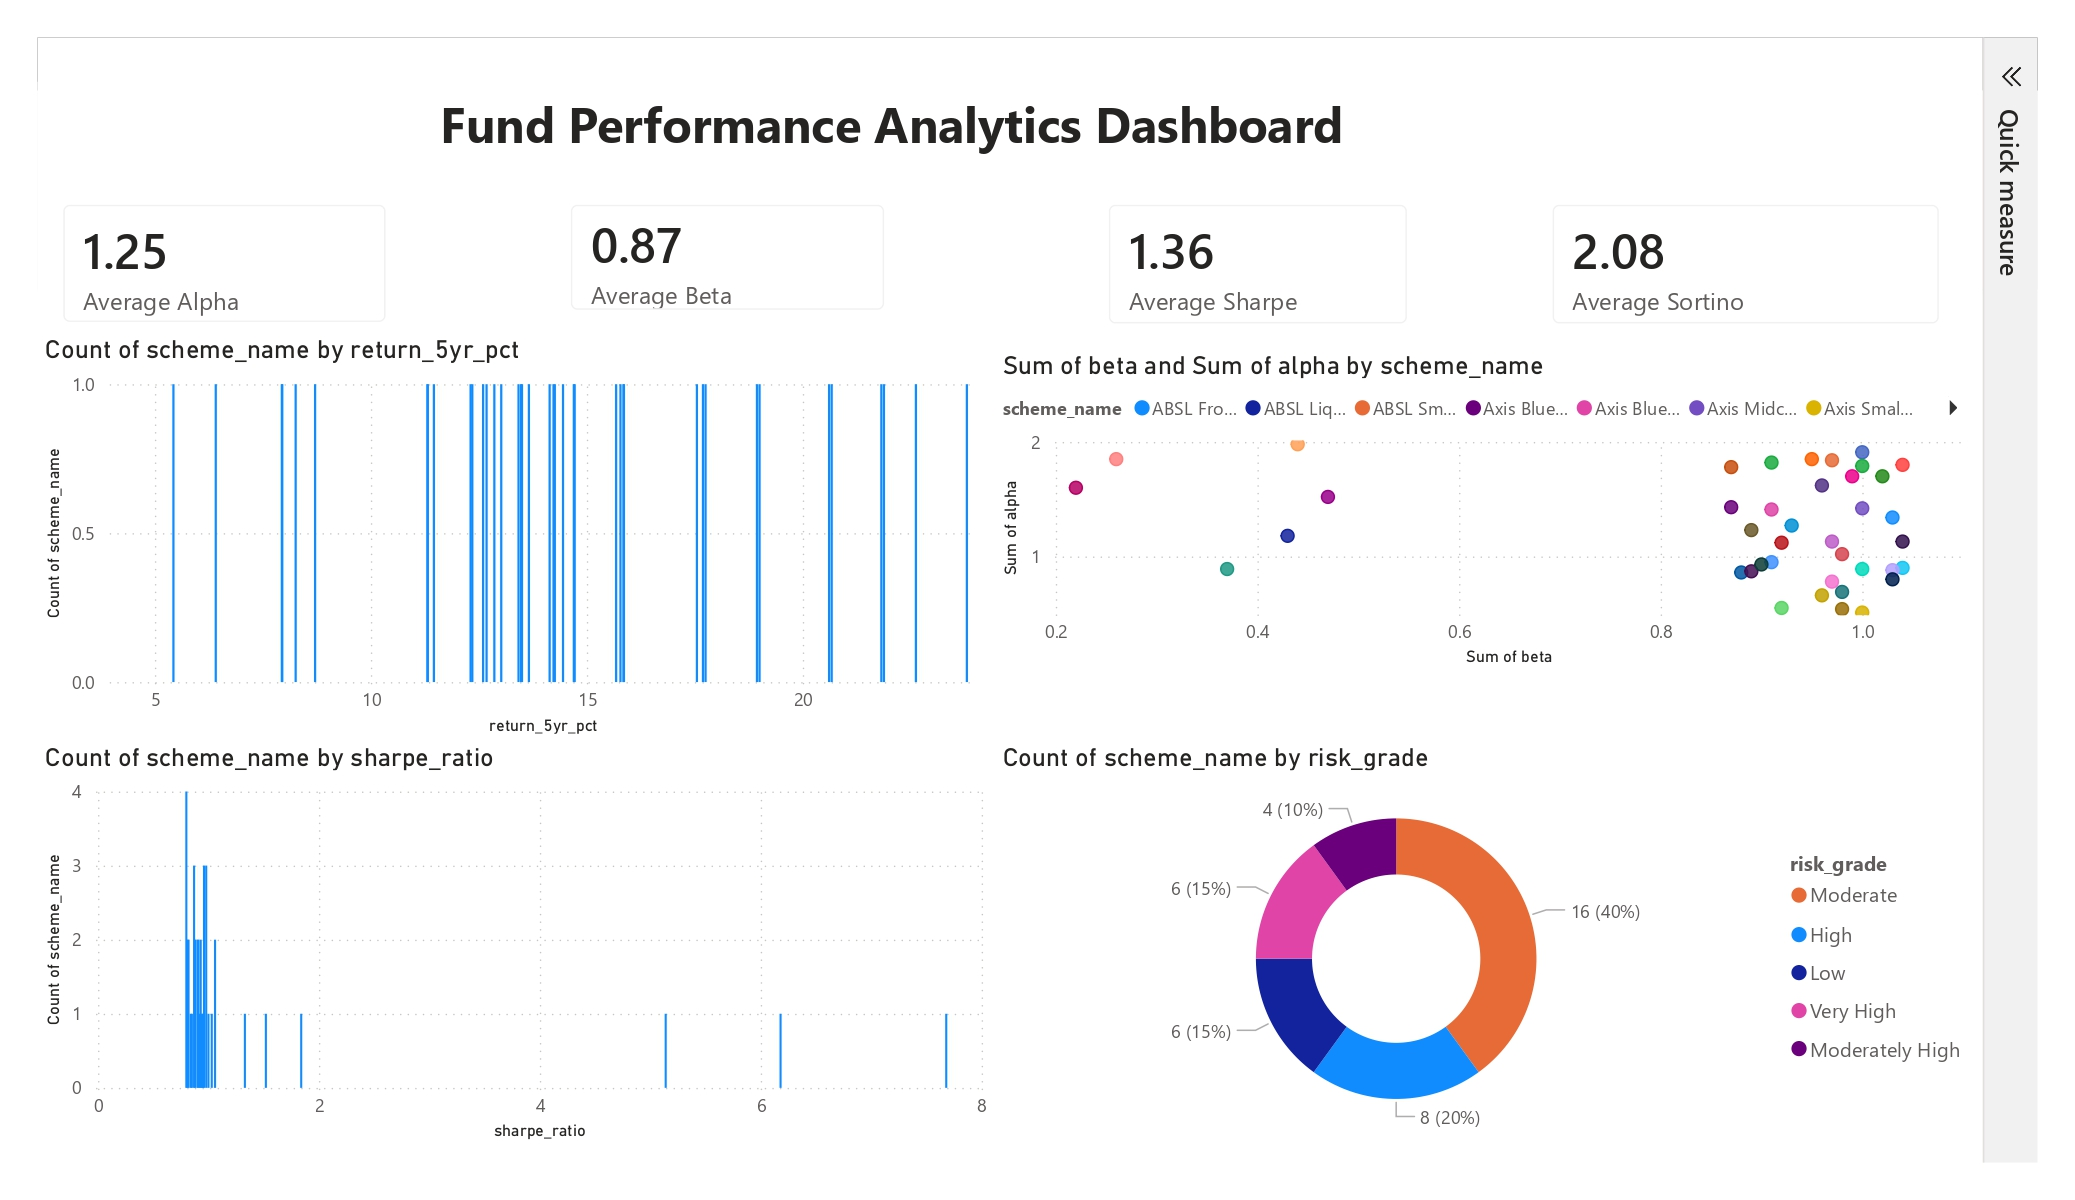

This screenshot's page, from the dashboard's own definition file:
{"tool":"powerbi","page":{"name":"Fund Performance Analytics","canvas":[1280,720],"ordinal":1},"visuals":[{"type":"textbox","box":[0,18.6,1124.3,64.3],"z":0},{"type":"cardVisual","fields":{"Data":["scheme_performance_clean.Average Beta"]},"box":[334.3,82.9,240,102.9],"z":1000},{"type":"cardVisual","fields":{"Data":["scheme_performance_clean.Average Alpha"]},"box":[0,82.9,245.7,111.4],"z":2000},{"type":"cardVisual","fields":{"Data":["scheme_performance_clean.Average Sharpe"]},"box":[687.5,82.5,230,112.5],"z":3000},{"type":"cardVisual","fields":{"Data":["scheme_performance_clean.Average Sortino"]},"box":[980,82.5,287.5,112.5],"z":4000},{"type":"columnChart","fields":{"Y":["CountNonNull(scheme_performance_clean.scheme_name)"],"Category":["scheme_performance_clean.return_5yr_pct"]},"box":[0,185,630,267.5],"z":5000},{"type":"scatterChart","fields":{"X":["Sum(scheme_performance_clean.beta)"],"Y":["Sum(scheme_performance_clean.alpha)"],"Series":["scheme_performance_clean.scheme_name"]},"box":[630,195,650,212.5],"z":6000},{"type":"columnChart","fields":{"Y":["CountNonNull(scheme_performance_clean.scheme_name)"],"Category":["scheme_performance_clean.sharpe_ratio"]},"box":[0,452.5,630,267.5],"z":7000},{"type":"donutChart","fields":{"Category":["scheme_performance_clean.risk_grade"],"Y":["CountNonNull(scheme_performance_clean.scheme_name)"]},"box":[630,452.5,650,267.5],"z":8000}]}

Visuals, with their boxes on the page's 1280x720 design canvas (x1, y1, x2, y2). These are canvas units, not pixel positions in the 2075x1200 screenshot, which may show the page scaled, cropped or inside an application window:
textbox: BBox(0, 19, 1124, 83)
cardVisual - scheme_performance_clean.Average Beta: BBox(334, 83, 574, 186)
cardVisual - scheme_performance_clean.Average Alpha: BBox(0, 83, 246, 194)
cardVisual - scheme_performance_clean.Average Sharpe: BBox(688, 82, 918, 195)
cardVisual - scheme_performance_clean.Average Sortino: BBox(980, 82, 1268, 195)
columnChart - CountNonNull(scheme_performance_clean.scheme_name) x scheme_performance_clean.return_5yr_pct: BBox(0, 185, 630, 452)
scatterChart - Sum(scheme_performance_clean.beta) x Sum(scheme_performance_clean.alpha): BBox(630, 195, 1280, 408)
columnChart - CountNonNull(scheme_performance_clean.scheme_name) x scheme_performance_clean.sharpe_ratio: BBox(0, 452, 630, 720)
donutChart - scheme_performance_clean.risk_grade x CountNonNull(scheme_performance_clean.scheme_name): BBox(630, 452, 1280, 720)
